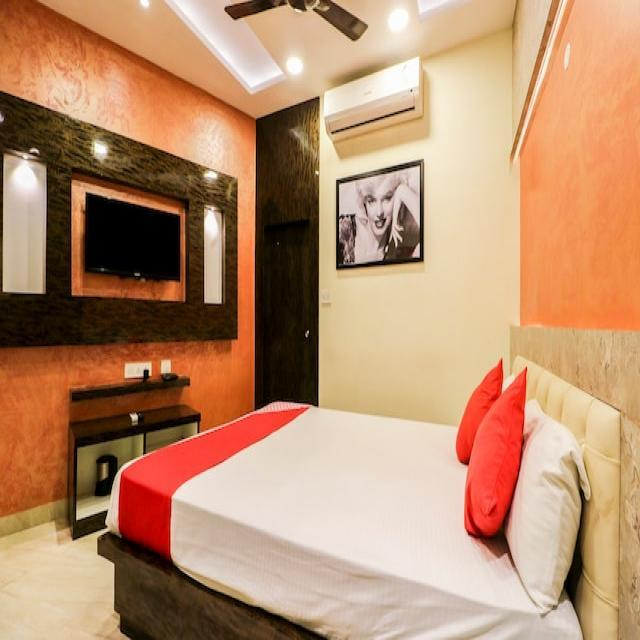Monitor: (69, 179, 195, 292)
bed: (97, 352, 621, 639)
